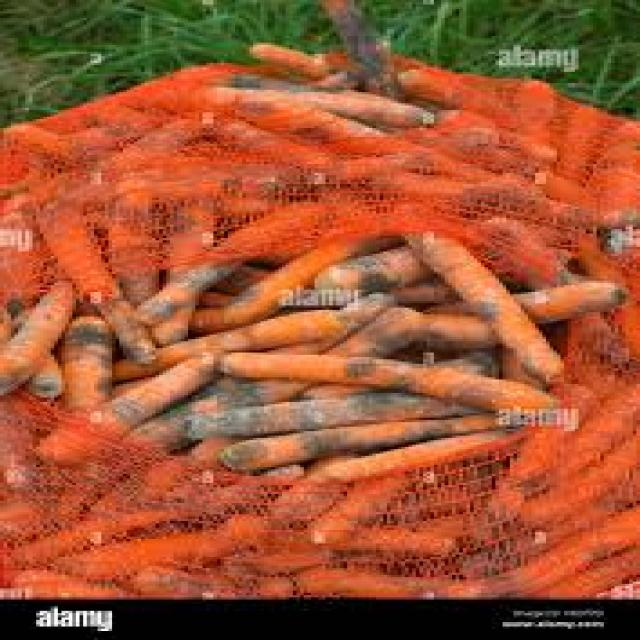Stale_Carrot: (220, 382, 475, 454), (262, 336, 466, 423), (214, 222, 369, 321), (178, 389, 438, 443), (20, 298, 179, 375), (416, 276, 563, 352), (80, 263, 254, 326), (347, 301, 503, 361), (330, 250, 414, 296)
